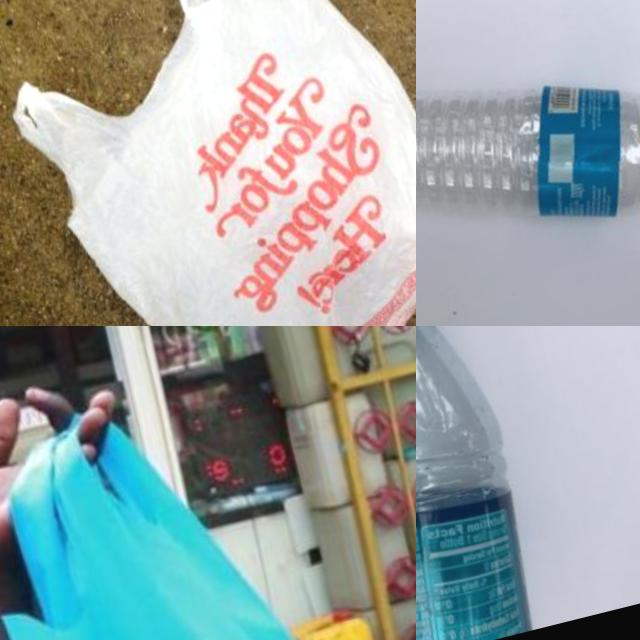garrafa plástica: (416, 18, 640, 278), (416, 326, 551, 640)
sacola plástica: (0, 0, 416, 326), (0, 379, 416, 640)
